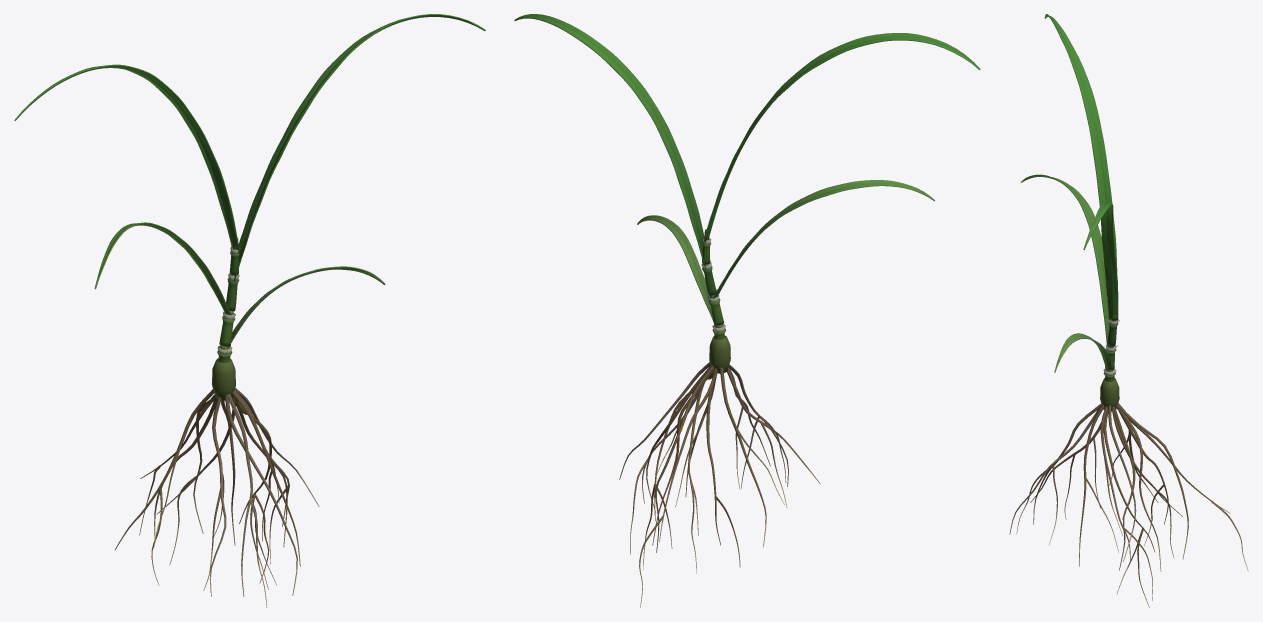
Rendered from rice-seedling.glb.
3 renders of one model, left to right at view 1: azimuth 30°, elevation 25°; view 2: azimuth 150°, elevation 25°; view 3: azimuth 270°, elevation 25°, orthographic. The views are drawn at different scales.
Parts seen in each view (by area): view 1: Main culm · Leaf blade 4, Main culm · Leaf blade 3, Main culm · Leaf blade 2, Adventitious root 4, Adventitious root 14, Tillering crown, Adventitious root 12, Main culm · Leaf blade 1, Adventitious root 13, Adventitious root 10, Adventitious root 3; view 2: Main culm · Leaf blade 3, Main culm · Leaf blade 4, Main culm · Leaf blade 2, Main culm · Leaf blade 1, Adventitious root 14, Adventitious root 12, Adventitious root 8, Tillering crown, Adventitious root 11; view 3: Main culm · Leaf blade 4, Main culm · Leaf blade 3, Main culm · Leaf blade 2, Adventitious root 1, Adventitious root 10, Adventitious root 4, Adventitious root 13, Tillering crown, Main culm · Leaf blade 1, Adventitious root 5, Adventitious root 14, Adventitious root 6 (+6 smaller).
Part boxes in pixels (<box>): Main culm · Leaf blade 4: <box>14,64,240,253</box>; Main culm · Leaf blade 3: <box>233,14,485,281</box>; Main culm · Leaf blade 2: <box>94,222,231,315</box>; Adventitious root 4: <box>227,394,276,607</box>; Adventitious root 14: <box>203,396,226,596</box>; Tillering crown: <box>212,358,235,400</box>; Adventitious root 12: <box>115,389,214,549</box>; Main culm · Leaf blade 1: <box>227,266,385,347</box>; Adventitious root 13: <box>232,390,300,566</box>; Adventitious root 10: <box>233,395,271,589</box>; Adventitious root 3: <box>225,395,297,595</box>; Main culm · Leaf blade 3: <box>514,14,710,269</box>; Main culm · Leaf blade 4: <box>703,33,980,244</box>; Main culm · Leaf blade 2: <box>713,180,934,298</box>; Main culm · Leaf blade 1: <box>637,215,715,325</box>; Adventitious root 14: <box>727,367,820,507</box>; Adventitious root 12: <box>720,367,784,547</box>; Adventitious root 8: <box>639,371,717,607</box>; Tillering crown: <box>709,335,730,373</box>; Adventitious root 11: <box>706,368,740,566</box>; Main culm · Leaf blade 4: <box>1044,14,1117,273</box>; Main culm · Leaf blade 3: <box>1083,201,1118,320</box>; Main culm · Leaf blade 2: <box>1020,174,1109,345</box>; Adventitious root 1: <box>1100,406,1152,600</box>; Adventitious root 10: <box>1103,408,1154,607</box>; Adventitious root 4: <box>1016,403,1101,544</box>; Adventitious root 13: <box>1079,404,1118,566</box>; Tillering crown: <box>1100,378,1119,411</box>; Main culm · Leaf blade 1: <box>1054,333,1112,372</box>; Adventitious root 5: <box>1116,404,1188,559</box>; Adventitious root 14: <box>1030,422,1101,519</box>; Adventitious root 6: <box>1116,407,1161,571</box>.
Bounding box in the file's own units: 0.2479 × 0.2934 × 0.1296.
